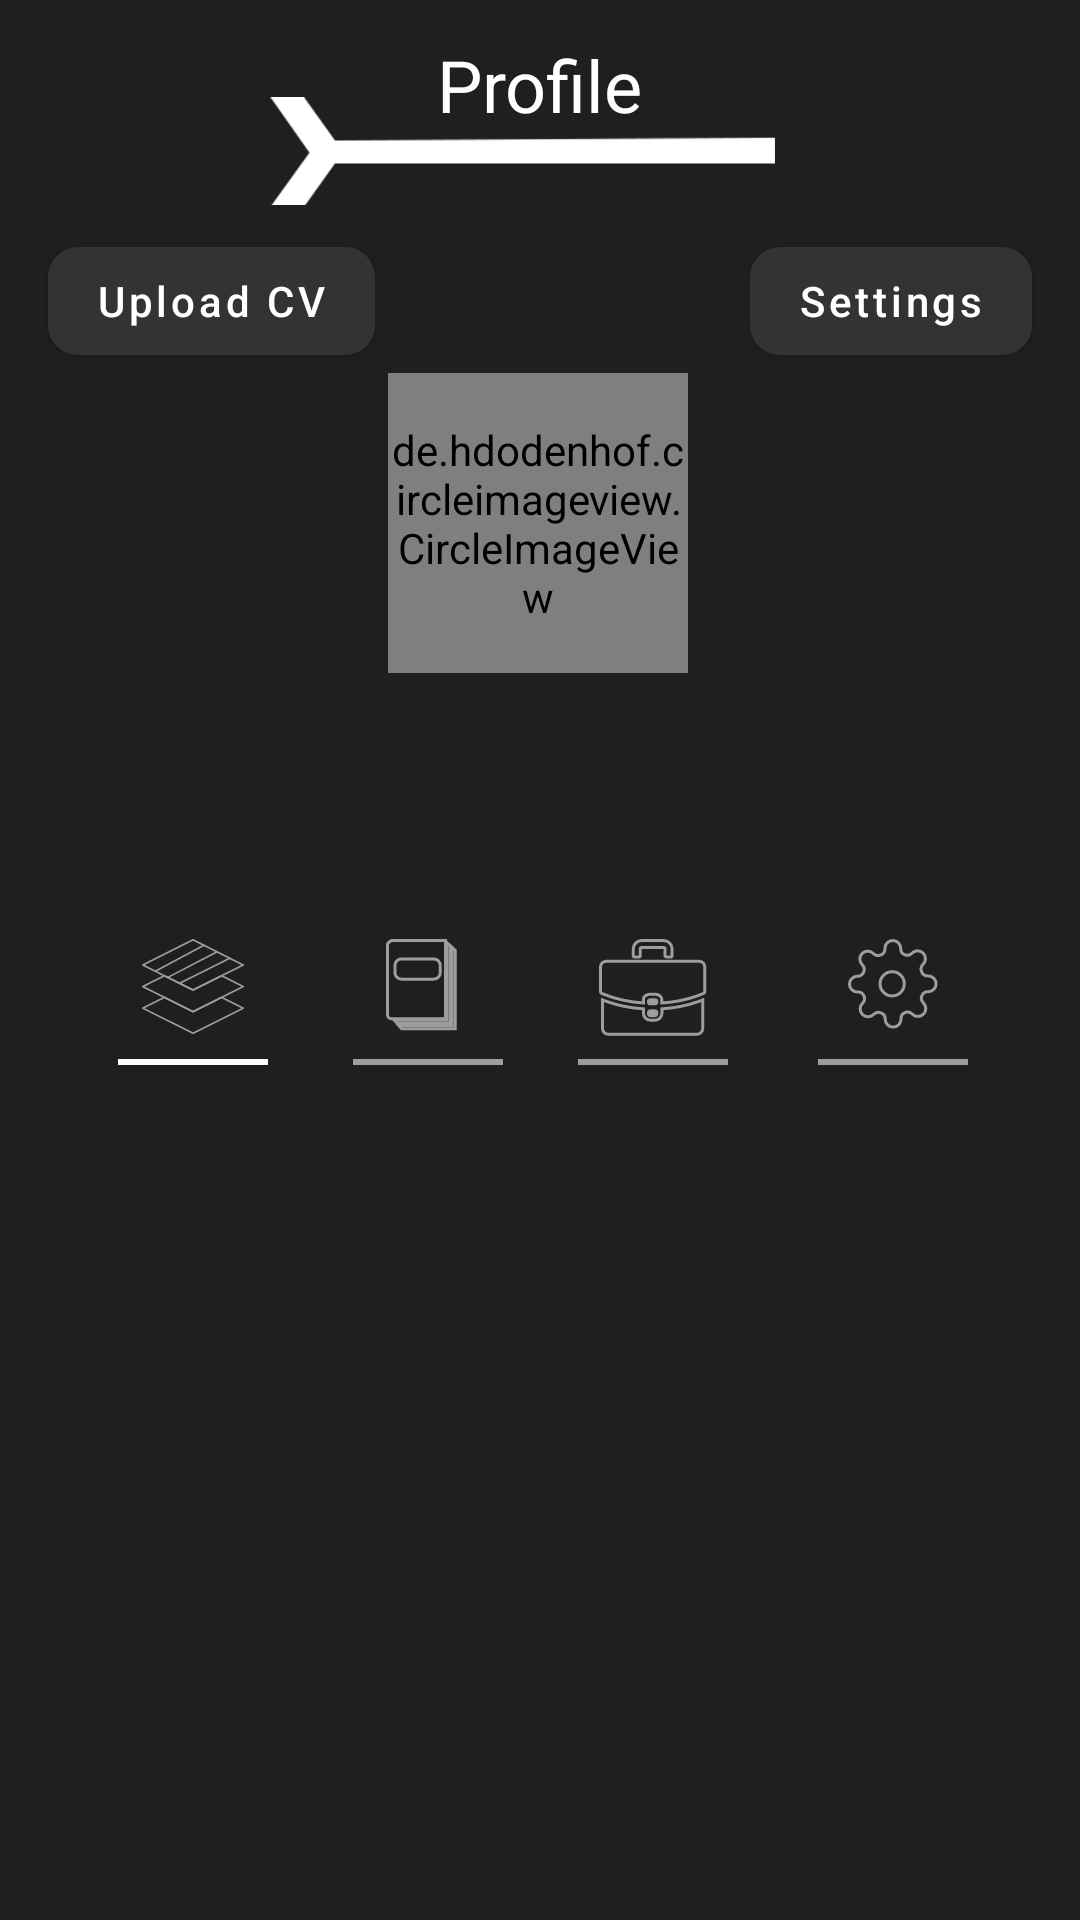

Icons on this 1080w x 1920h Android screen, each with its box as (x1, y1, x2, y2):
profile education: (386, 939, 457, 1031)
profile experience: (599, 939, 707, 1036)
profile overview: (142, 939, 244, 1034)
profile settings: (848, 939, 938, 1029)
